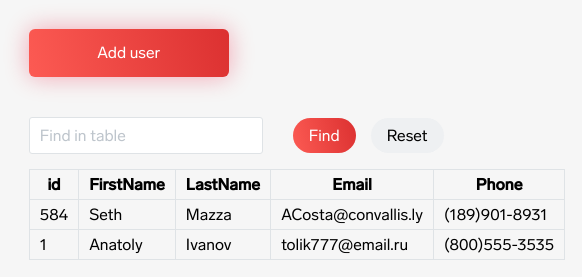
Test: Table component works correctly › Filtering works correctly
The image size is (582, 277).
Type "!!&^%(@//??)/." into the field with placeholder "Find in table" at (146, 136), box [29, 117, 263, 154]
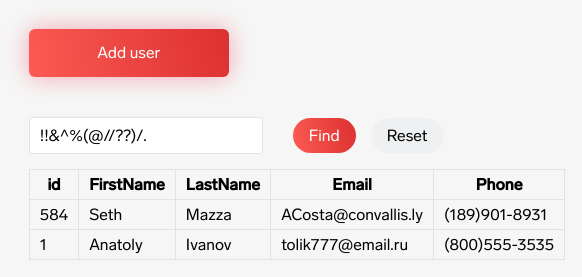
Click the button "Find" at (324, 136), box [293, 118, 356, 153]
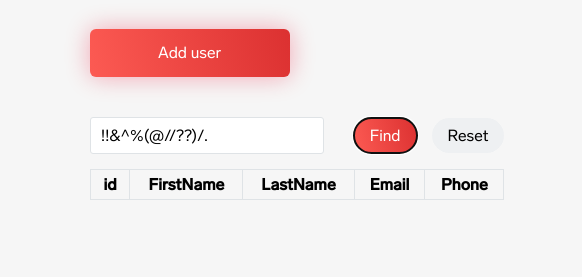
Result: the text "584" is gone
Result: the text "tolik777@email.ru" is gone
